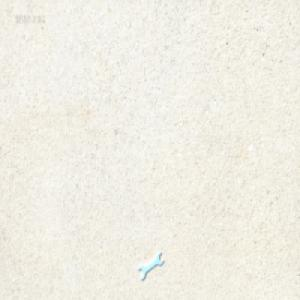Wrench: (137, 251, 162, 280)
